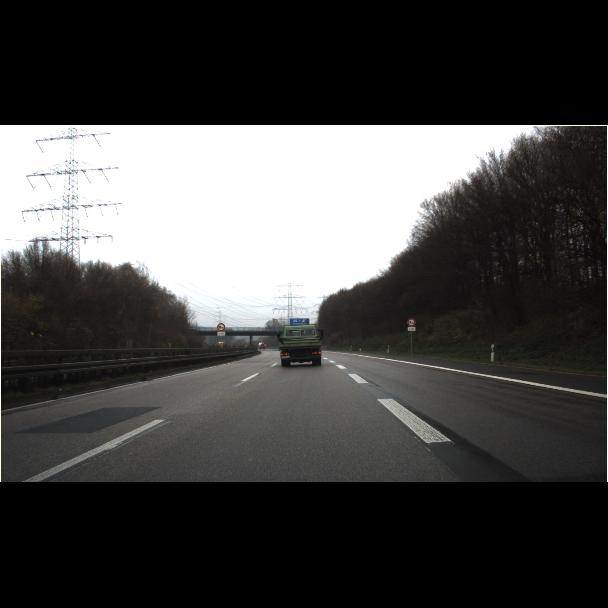no overtaking (trucks): (216, 318, 416, 332)
